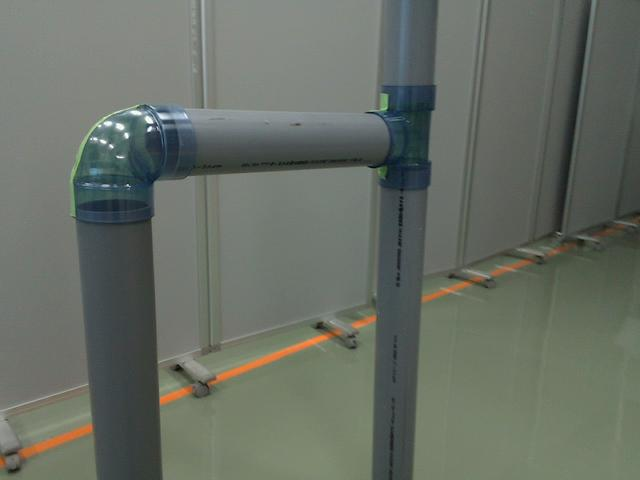bent: (73, 100, 198, 225)
junction: (366, 88, 439, 195)
